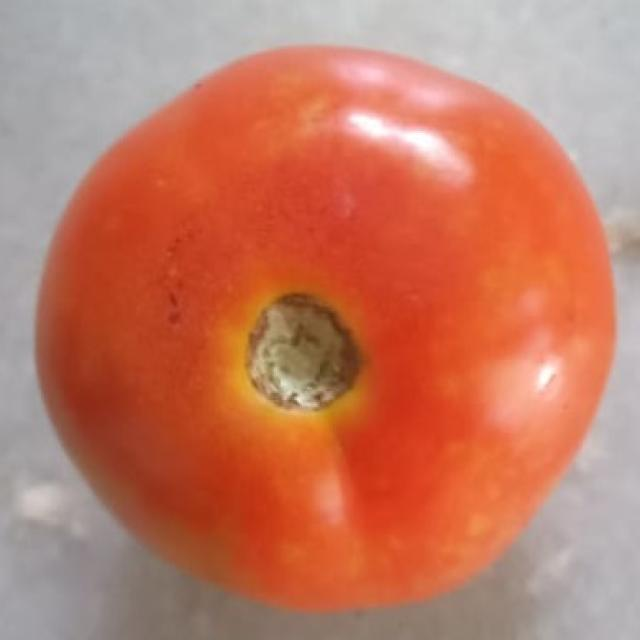ripe tomato: (31, 26, 640, 616)
